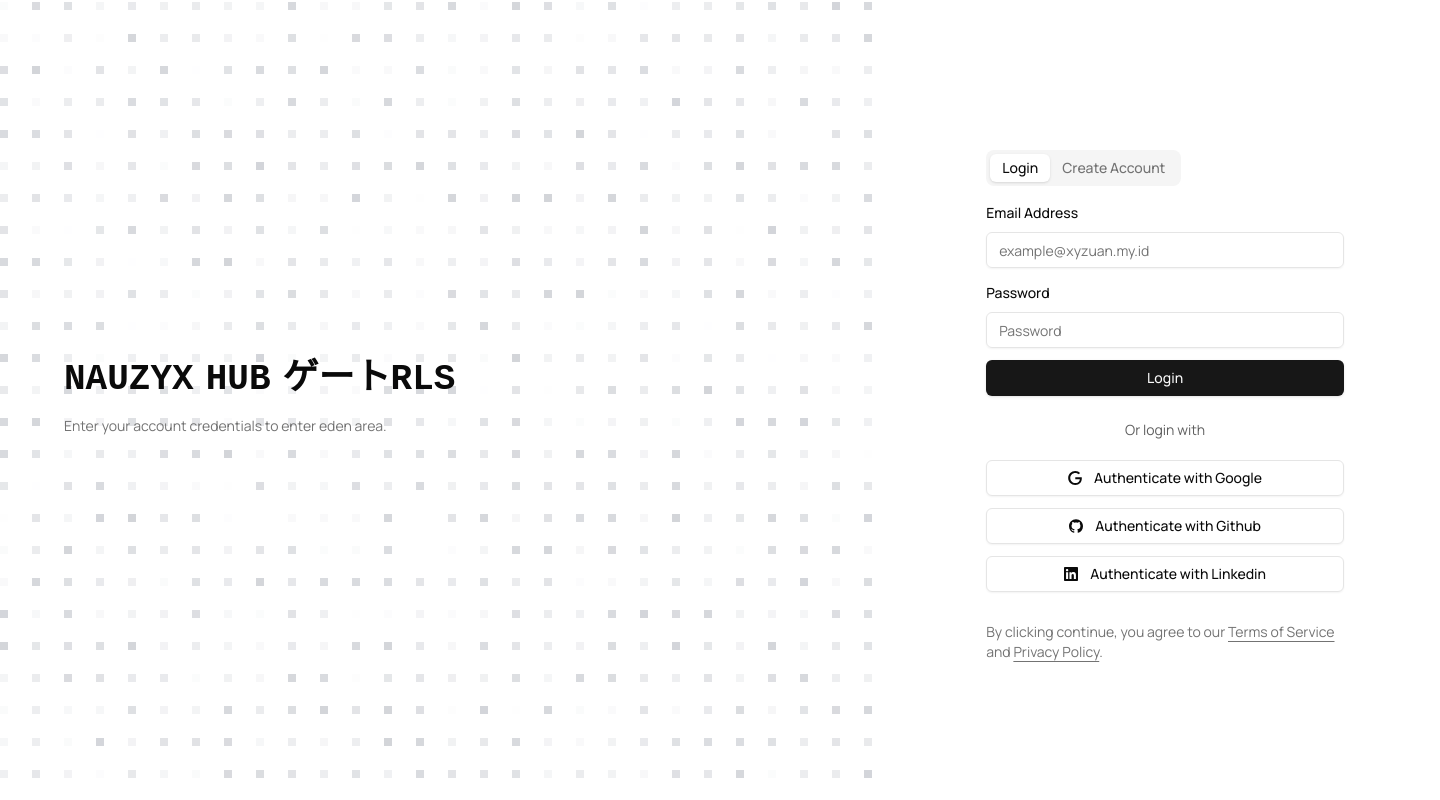
Authentication › Sign-in › Validate error with null Credentials
The width and height of the screenshot is (1440, 800).
Click the submit button.
click(1165, 378)  # box [986,360,1344,396]
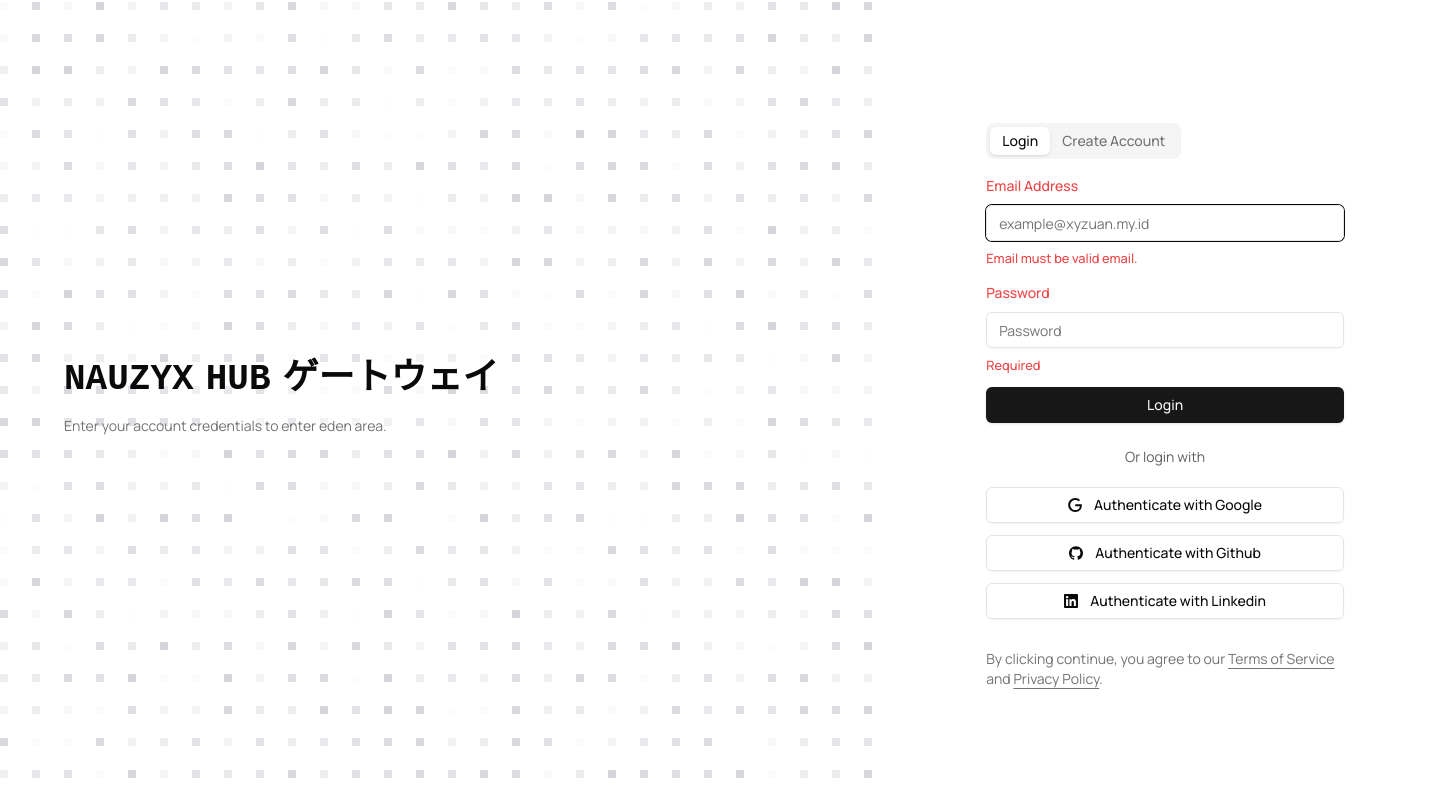
Now the text "Email must be valid email." is shown, box [986,249,1138,267]
Now the text "Required" is shown, box [986,356,1040,374]
